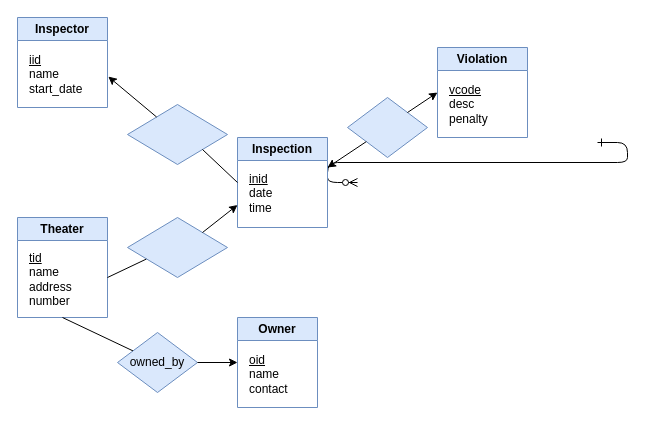
This 654x425 diagram has some shape labels left out. Here are the shapes that lost their labels. From the top down, the centre of each, then its label:
At [177,134]: "conducted_by".
At [387,127]: "discovered".
At [177,247]: "location_of".
